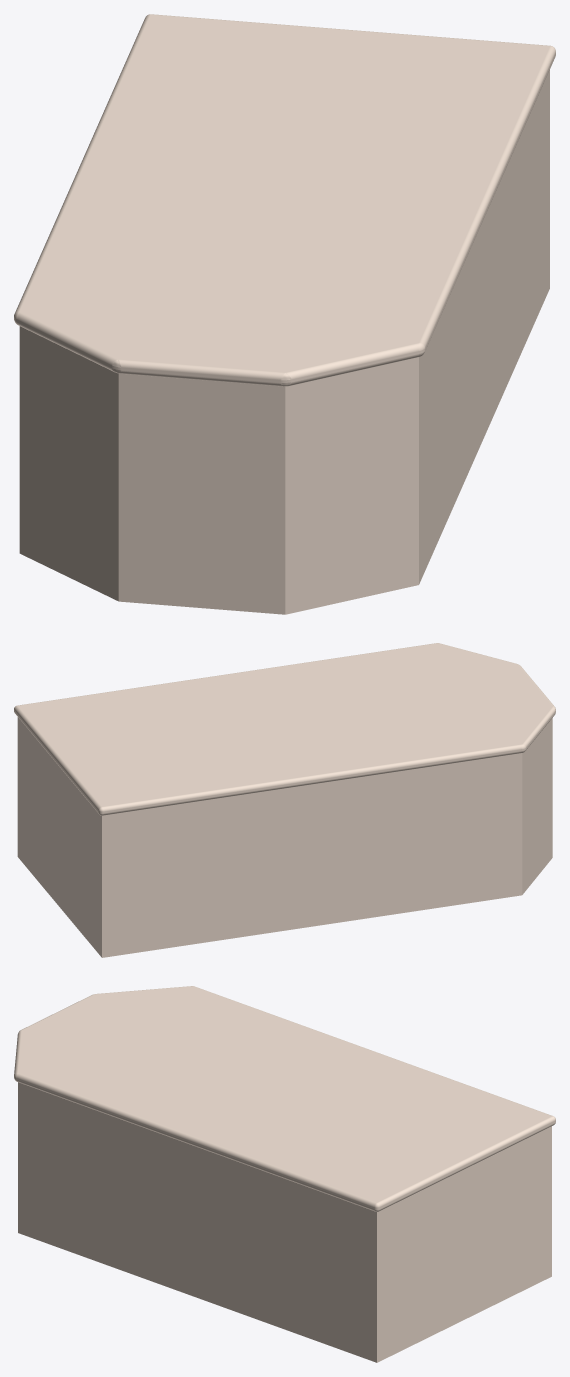
Rendered from esso_low.glb.
3 views of the same model, one above another, from view 1: azimuth 30°, elevation 25°; view 2: azimuth 150°, elevation 25°; view 3: azimuth 270°, elevation 25° (orthographic). The views are drawn at different scales.
Visible parts, largest first — view 1: Cube.007; view 2: Cube.007; view 3: Cube.007.
Part boxes in pixels (x1=…): Cube.007: x1=14, y1=14, x2=555, y2=614; Cube.007: x1=14, y1=643, x2=555, y2=957; Cube.007: x1=14, y1=986, x2=555, y2=1362.
Bounding box in the file's own units: 13.13 × 4.47 × 13.7.
